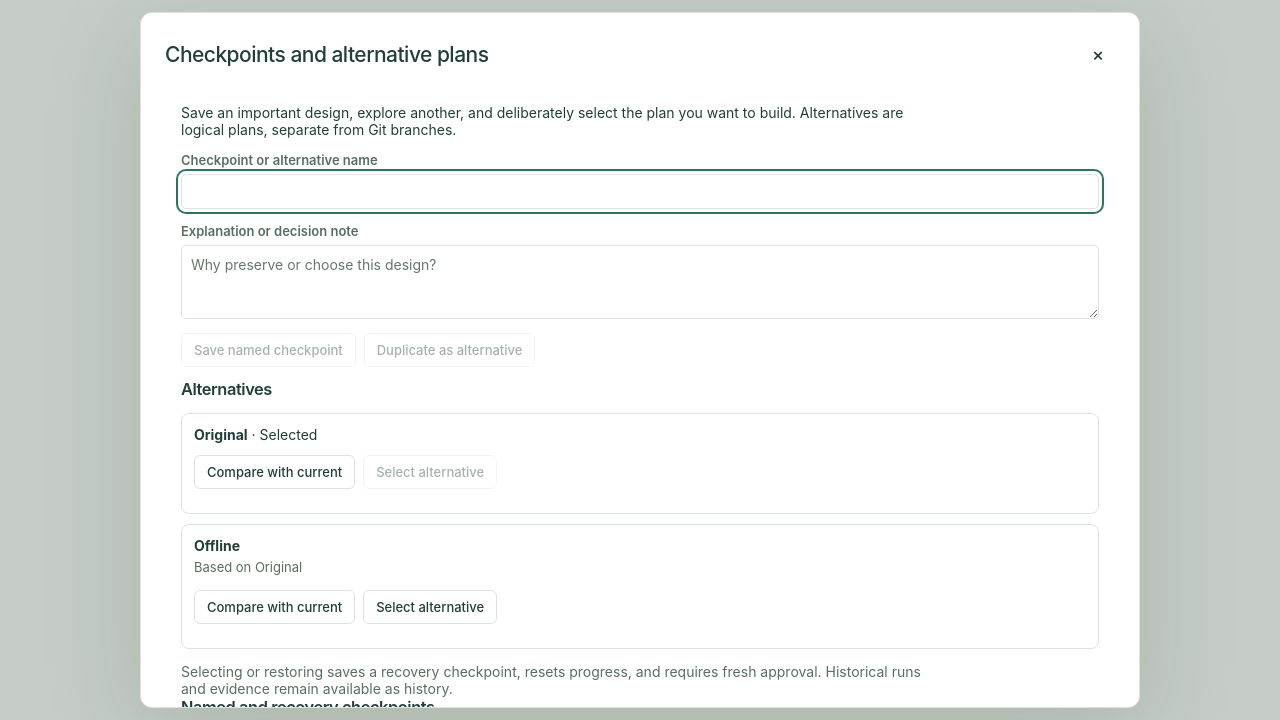
Test: does not compare unsaved conflicted work
Expected: the text "Offline" is shown, [194,537,240,554]
What coordinates should you click on to do the following:
click the button "Compare with current" below "· Selected"
I would click on:
 (275, 472)
Its box is [194,455,355,489].
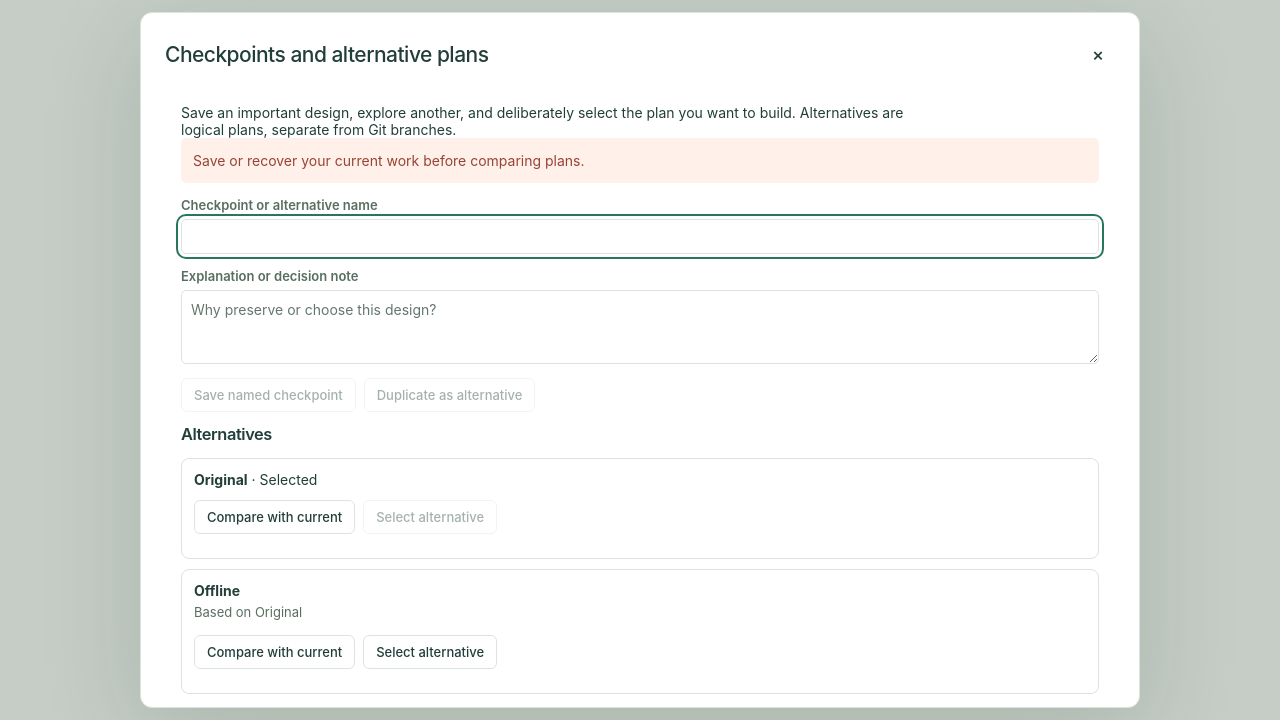
Now the message reads "Save or recover your current work before comparing plans.", box [193,152,584,169]
